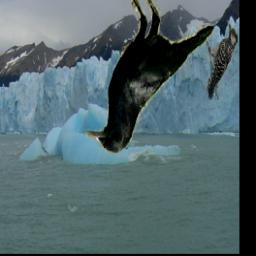Crow: (84, 0, 214, 153)
Woodpecker: (207, 18, 239, 100)
